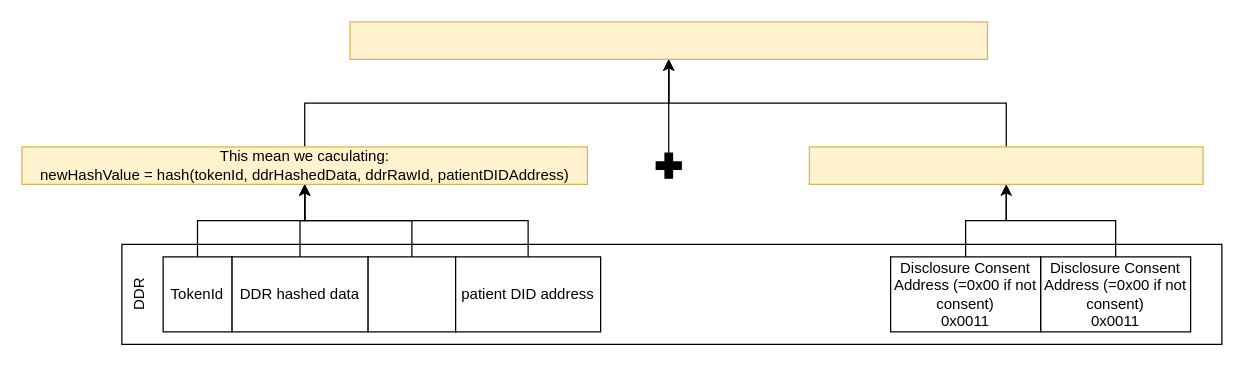
Image size: 1244x366. Some labels were removed from this diagram. The box of each missing label's shape, as (x1, y1, x2, y2) in pixels:
DDR raw id: (367, 256, 456, 332)
This mean we caculating: ddrHashValue = hash(newHashValue,hashConsentedProvider): (349, 21, 988, 59)
This mean we caculating: hashConsentedProvider = hash(consentedProvider[]): (808, 146, 1203, 184)
